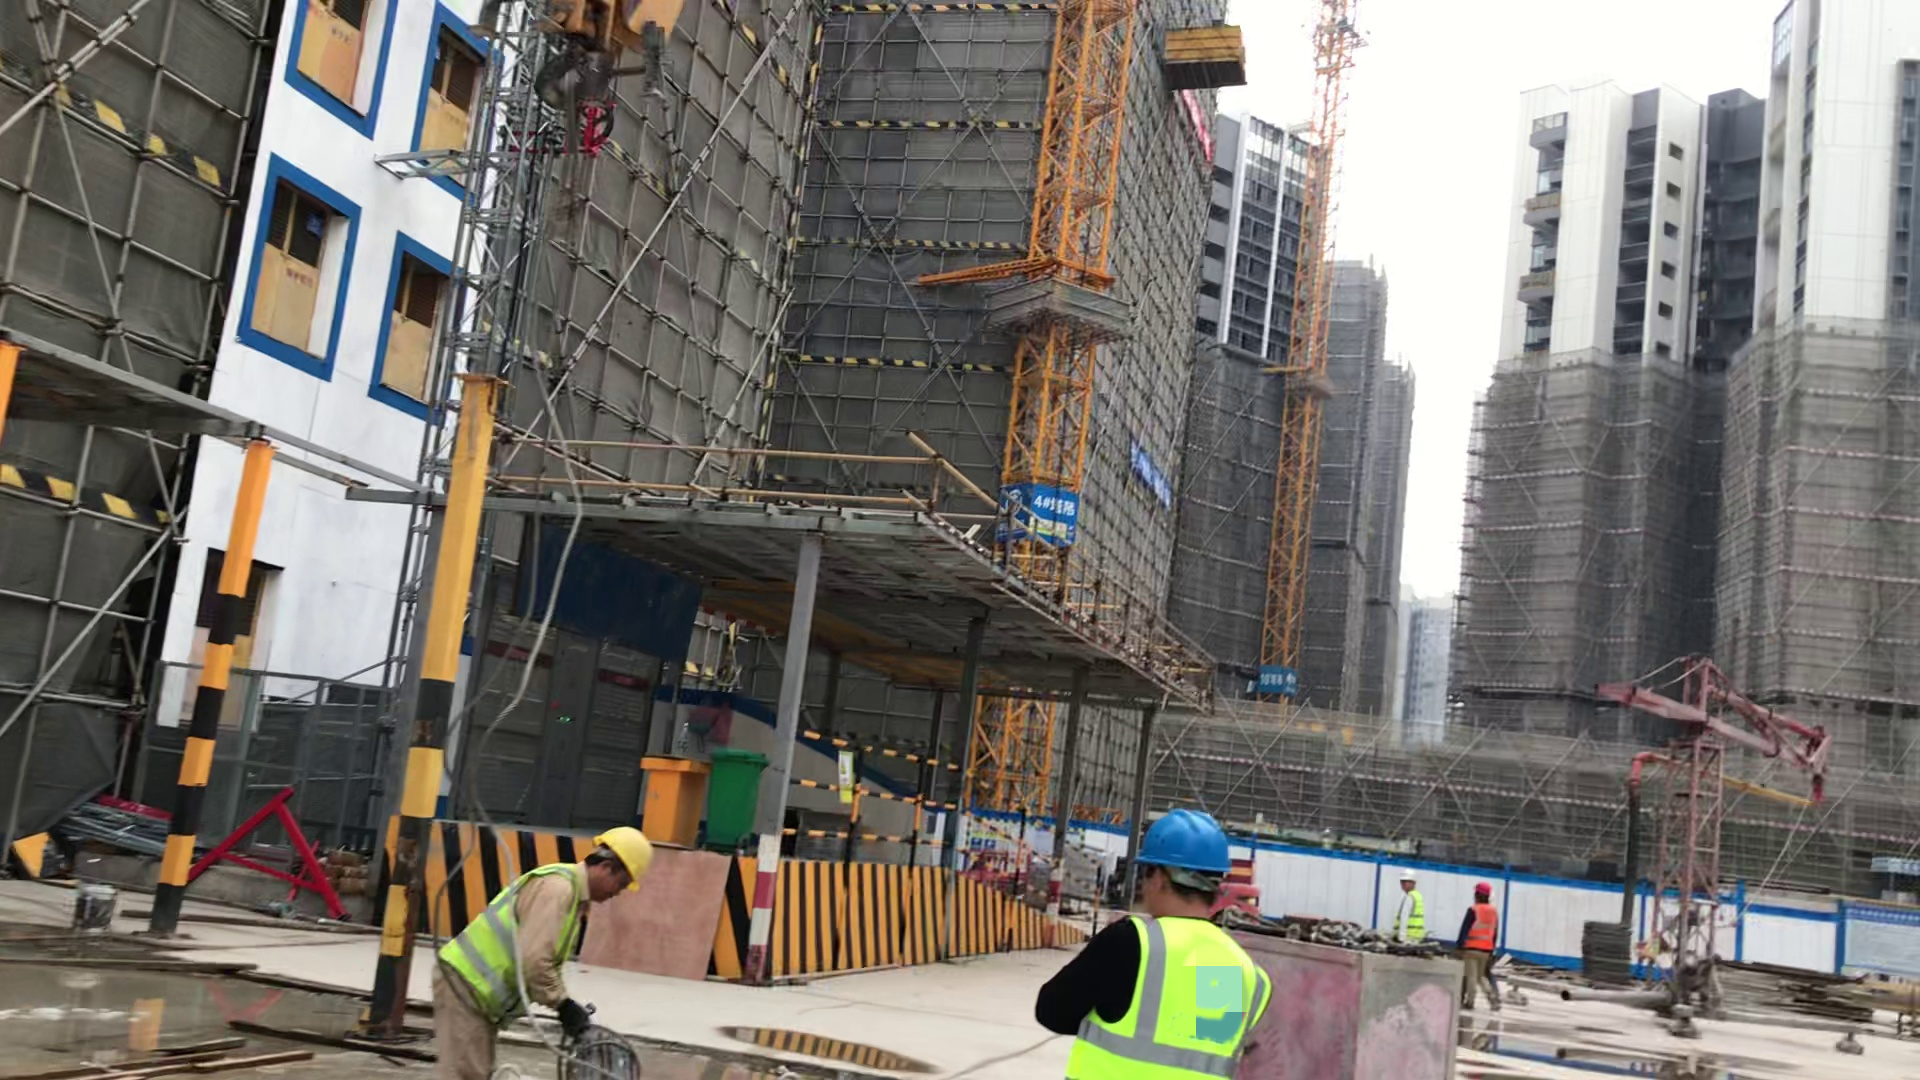fence: (777, 724, 1099, 927)
helmet: (1117, 796, 1254, 879), (597, 816, 659, 899), (1390, 860, 1427, 889), (1475, 874, 1508, 904)
hook: (458, 5, 721, 157)
person: (1019, 803, 1288, 1080), (425, 810, 666, 1080), (1450, 865, 1529, 1023), (1383, 854, 1439, 960)
slogan: (968, 469, 1102, 585), (1834, 893, 1920, 984), (1115, 430, 1188, 523), (1169, 82, 1226, 185), (808, 738, 869, 815), (1241, 657, 1306, 704), (1861, 846, 1920, 888)
vest: (1057, 905, 1287, 1080), (403, 858, 617, 1037), (1453, 899, 1517, 968), (1380, 884, 1439, 950)
